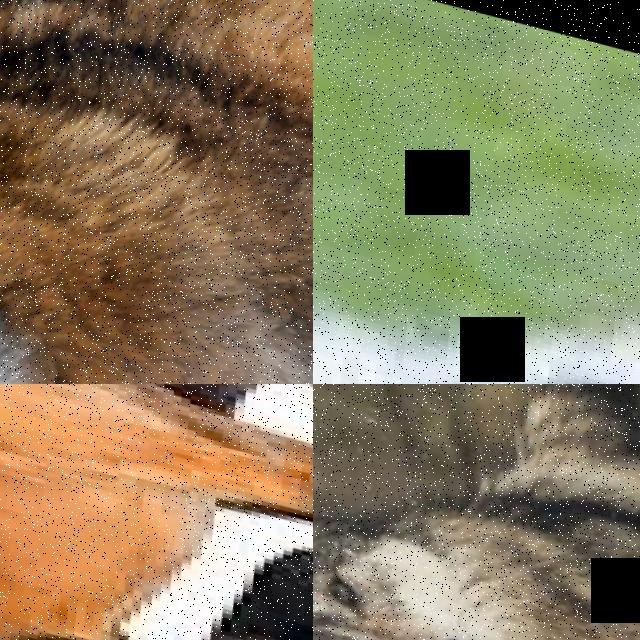dog: (313, 105, 640, 384), (0, 384, 313, 640), (0, 384, 313, 441), (239, 384, 313, 563)
wolf: (0, 0, 313, 384), (313, 384, 640, 640)
